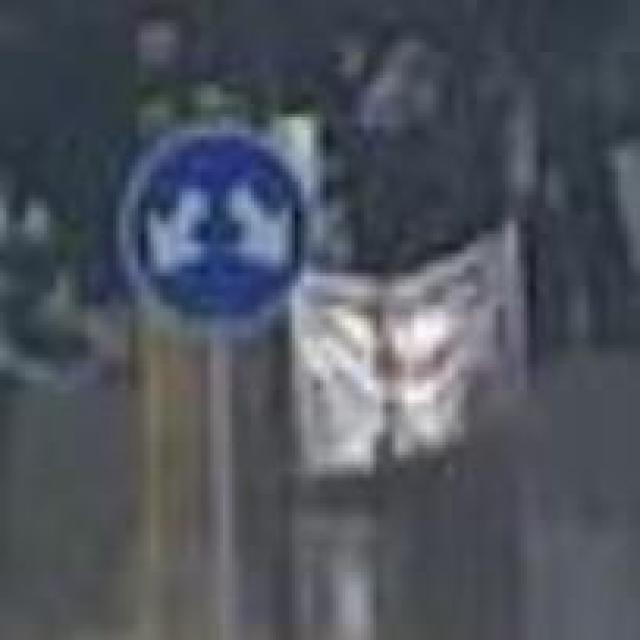traffic sign: (116, 124, 308, 342)
